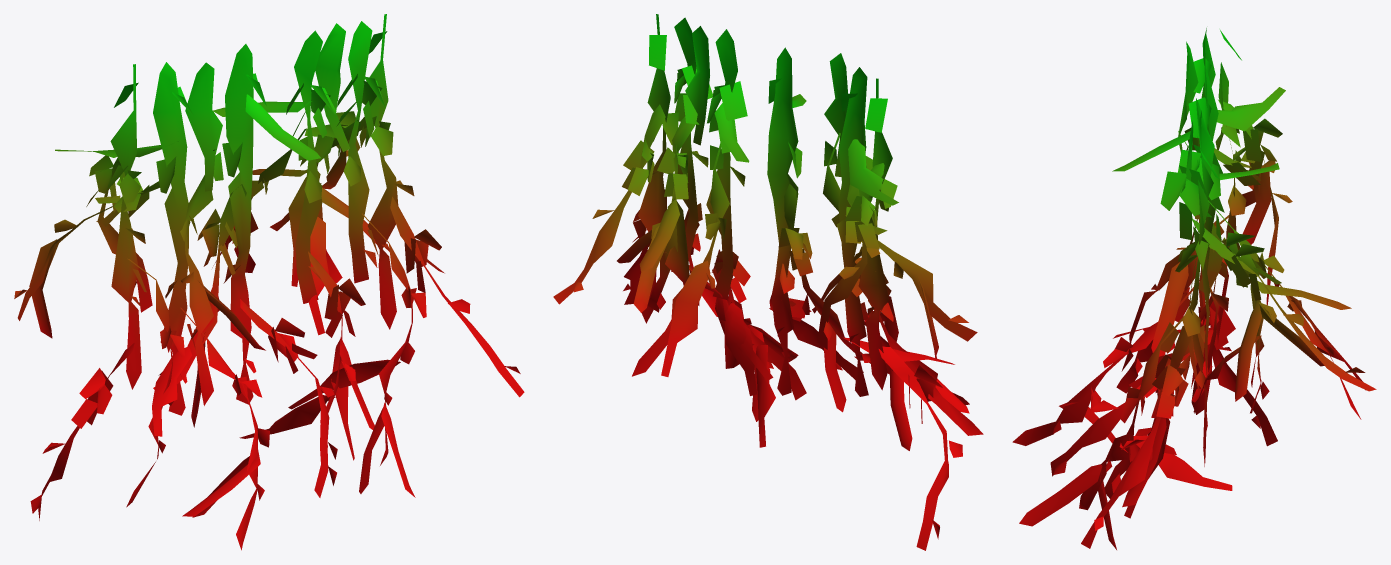
Rendered from Var11_LOD5.fbx.
3 views of the same model, side by side, from view 1: azimuth 30°, elevation 25°; view 2: azimuth 150°, elevation 25°; view 3: azimuth 270°, elevation 25° (orthographic). The views are drawn at different scales.
Parts seen in each view (by area): view 1: _nwx8_Var11_LOD5; view 2: _nwx8_Var11_LOD5; view 3: _nwx8_Var11_LOD5.
Part boxes in pixels (x1,y1,x2,y2): _nwx8_Var11_LOD5: (14,14,524,550); _nwx8_Var11_LOD5: (553,14,983,550); _nwx8_Var11_LOD5: (1012,28,1376,549).
Size of the model in its own units: 110 by 110 by 77.49.
